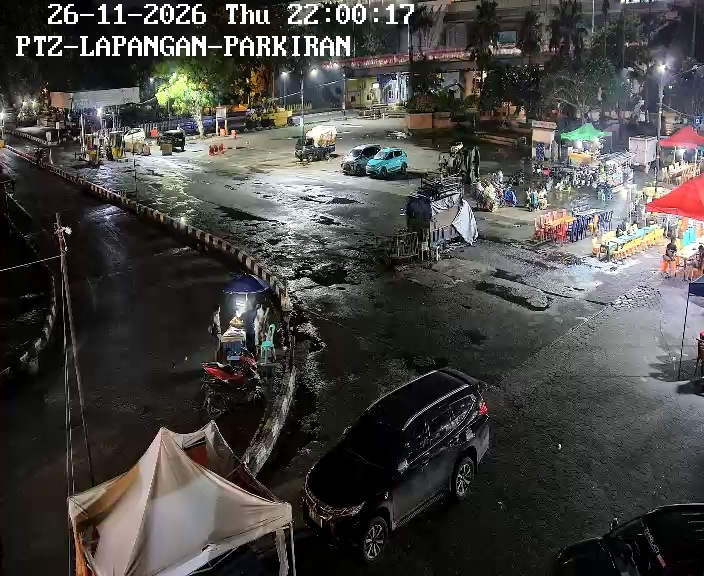Gerobak: (215, 291, 264, 366)
